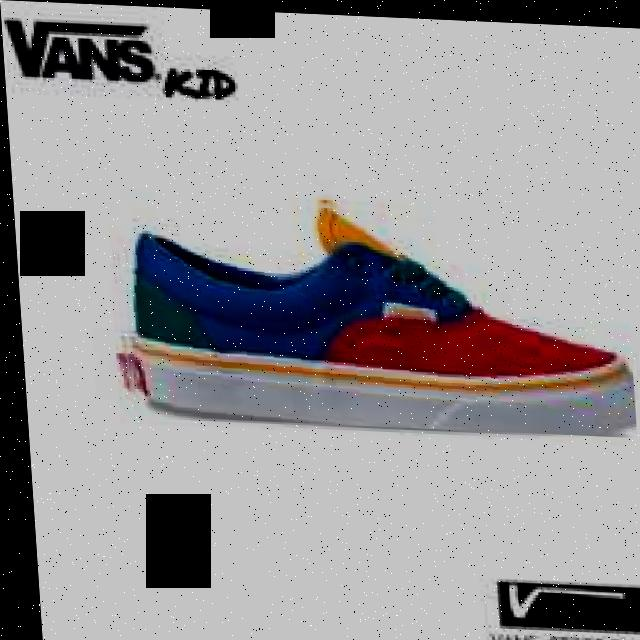shoe: (103, 184, 632, 432)
